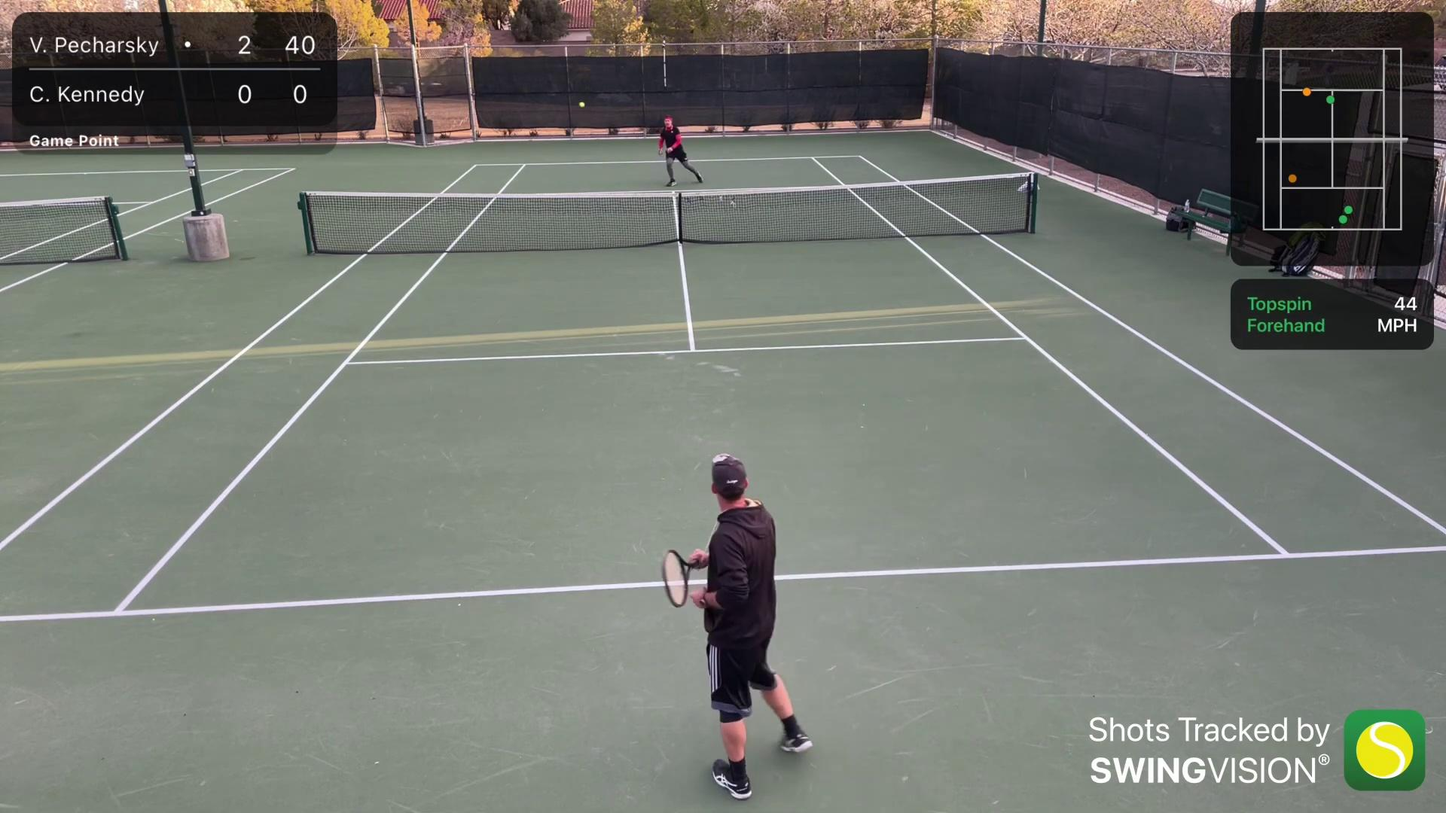ball: (578, 100, 584, 108)
